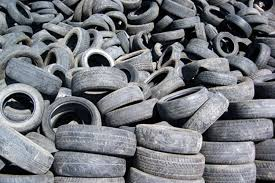tire: (39, 95, 103, 143), (56, 125, 136, 156), (5, 57, 64, 98), (134, 145, 206, 178), (136, 122, 203, 155), (1, 84, 45, 134), (182, 95, 231, 139), (50, 150, 126, 178), (70, 66, 128, 99), (193, 139, 257, 164), (160, 87, 213, 117), (94, 82, 142, 115), (104, 100, 162, 127), (204, 121, 274, 143), (192, 160, 251, 183), (78, 47, 116, 78), (139, 65, 178, 93), (59, 27, 88, 61), (115, 48, 151, 72), (245, 41, 272, 71), (212, 30, 240, 58), (226, 13, 254, 38), (155, 44, 180, 71)
